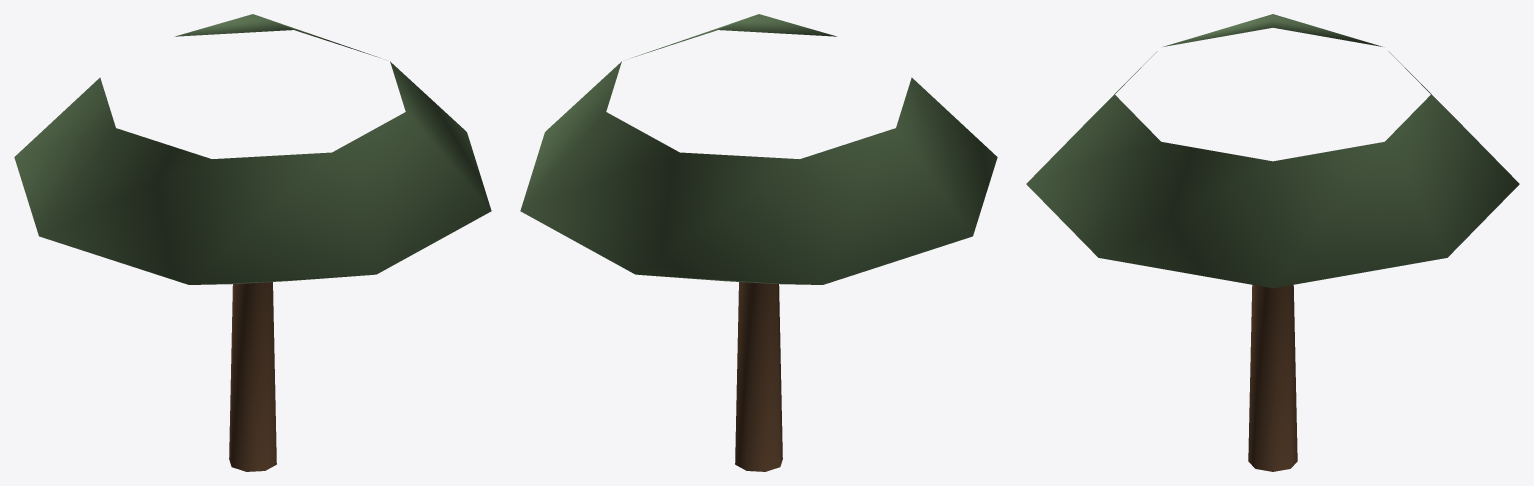
Rendered from gum-broad.gltf.
The picture shows the model from 3 angles, left to right: view 1: azimuth 30°, elevation 25°; view 2: azimuth 150°, elevation 25°; view 3: azimuth 270°, elevation 25°; orthographic projection.
Visible parts, largest first — view 1: gum-broad; view 2: gum-broad; view 3: gum-broad.
Part boxes in pixels (<box>): gum-broad: <box>14,14,491,471</box>; gum-broad: <box>520,14,997,471</box>; gum-broad: <box>1026,14,1519,471</box>.
Bounding box in the file's own units: 1 × 1 × 1.
